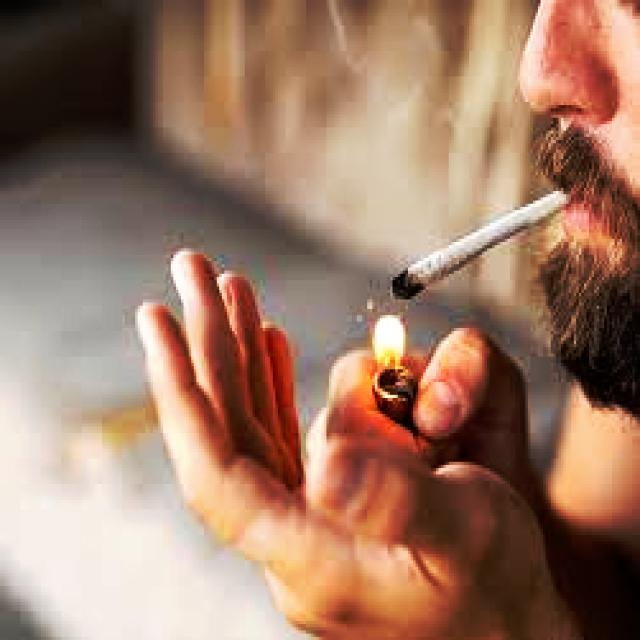api: (358, 304, 406, 367)
